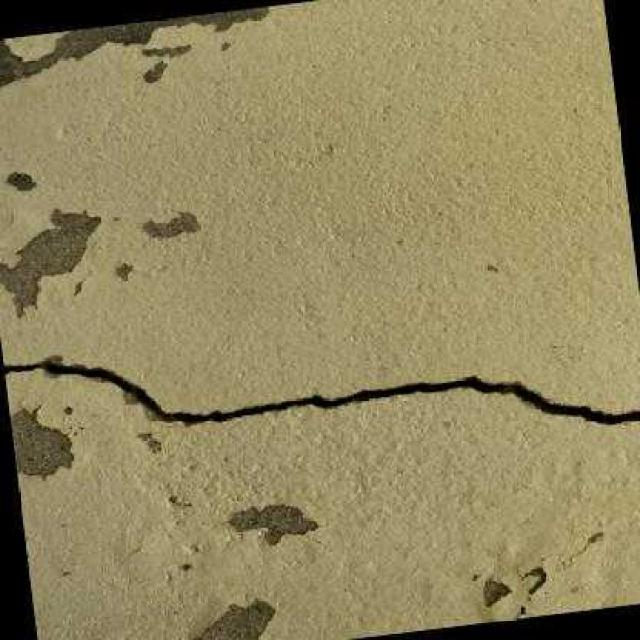D00: (3, 359, 640, 424)
